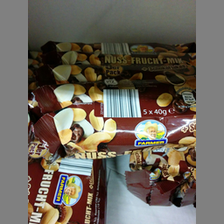nuts: (38, 38, 195, 158)
